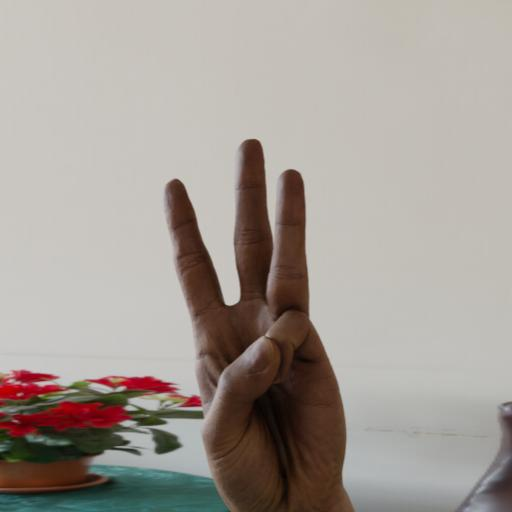W: (144, 112, 354, 512)
